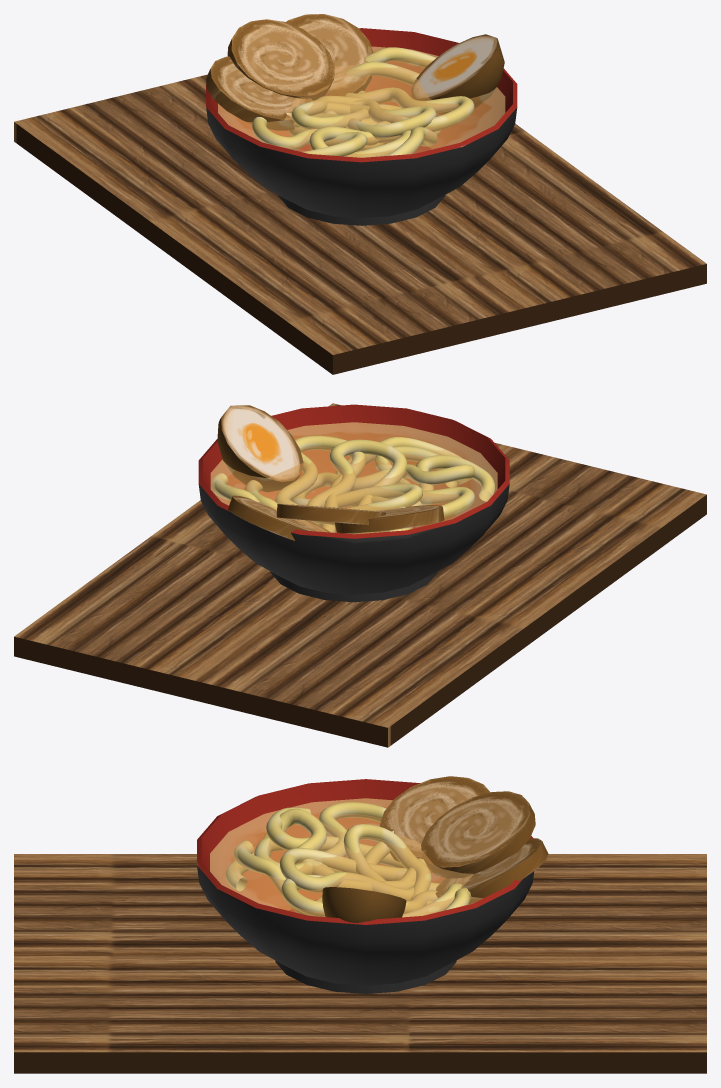
Rendered from ramen.glb.
3 views of the same model, one above another, from view 1: azimuth 30°, elevation 25°; view 2: azimuth 150°, elevation 25°; view 3: azimuth 270°, elevation 25° (orthographic). The views are drawn at different scales.
Visible parts, largest first — view 1: Box001, Cylinder001, Object001_Material #2_0, Cylinder003, Sphere001, uv001, uv002, Cylinder004, Cylinder002, uv003, uv; view 2: Box001, Cylinder001, Object001_Material #2_0, Sphere001, uv001, uv003, uv002, uv, Cylinder004, Cylinder002, Cylinder003; view 3: Box001, Cylinder001, Object001_Material #2_0, Cylinder003, uv001, uv003, Cylinder004, uv, uv002, Cylinder002, Sphere001.
Part boxes in pixels (bbox=[...]): Box001: bbox=[14, 74, 706, 374]; Cylinder001: bbox=[206, 28, 517, 225]; Object001_Material #2_0: bbox=[218, 46, 505, 157]; Cylinder003: bbox=[227, 19, 334, 100]; Sphere001: bbox=[411, 34, 504, 114]; uv001: bbox=[288, 61, 436, 156]; uv002: bbox=[325, 47, 474, 157]; Cylinder004: bbox=[205, 56, 311, 130]; Cylinder002: bbox=[286, 14, 373, 96]; uv003: bbox=[291, 90, 440, 149]; uv: bbox=[252, 100, 437, 155]; Box001: bbox=[14, 403, 706, 747]; Cylinder001: bbox=[198, 404, 509, 602]; Object001_Material #2_0: bbox=[210, 422, 497, 534]; Sphere001: bbox=[217, 405, 303, 492]; uv001: bbox=[244, 439, 494, 534]; uv003: bbox=[291, 464, 474, 525]; uv002: bbox=[212, 435, 459, 520]; uv: bbox=[331, 437, 474, 532]; Cylinder004: bbox=[334, 505, 444, 533]; Cylinder002: bbox=[228, 495, 330, 540]; Cylinder003: bbox=[276, 504, 385, 524]; Box001: bbox=[14, 854, 706, 1073]; Cylinder001: bbox=[197, 779, 534, 993]; Object001_Material #2_0: bbox=[210, 798, 482, 917]; Cylinder003: bbox=[421, 791, 535, 878]; uv001: bbox=[266, 807, 461, 917]; uv003: bbox=[225, 808, 433, 904]; Cylinder004: bbox=[379, 776, 489, 861]; uv: bbox=[234, 802, 426, 915]; uv002: bbox=[254, 837, 475, 916]; Cylinder002: bbox=[435, 838, 548, 904]; Sphere001: bbox=[322, 887, 406, 922].
Size of the model in its own units: 61.64 by 22.76 by 90.99.
Materials: 2 (2 with a texture image).
